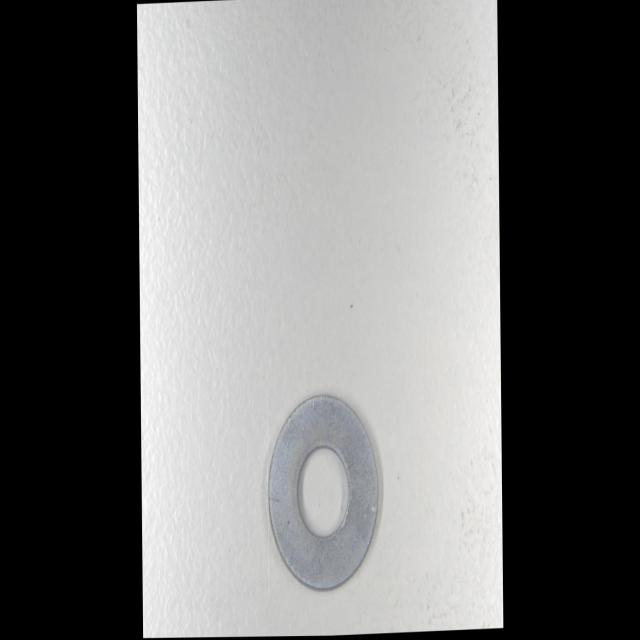washer: (268, 388, 384, 596)
